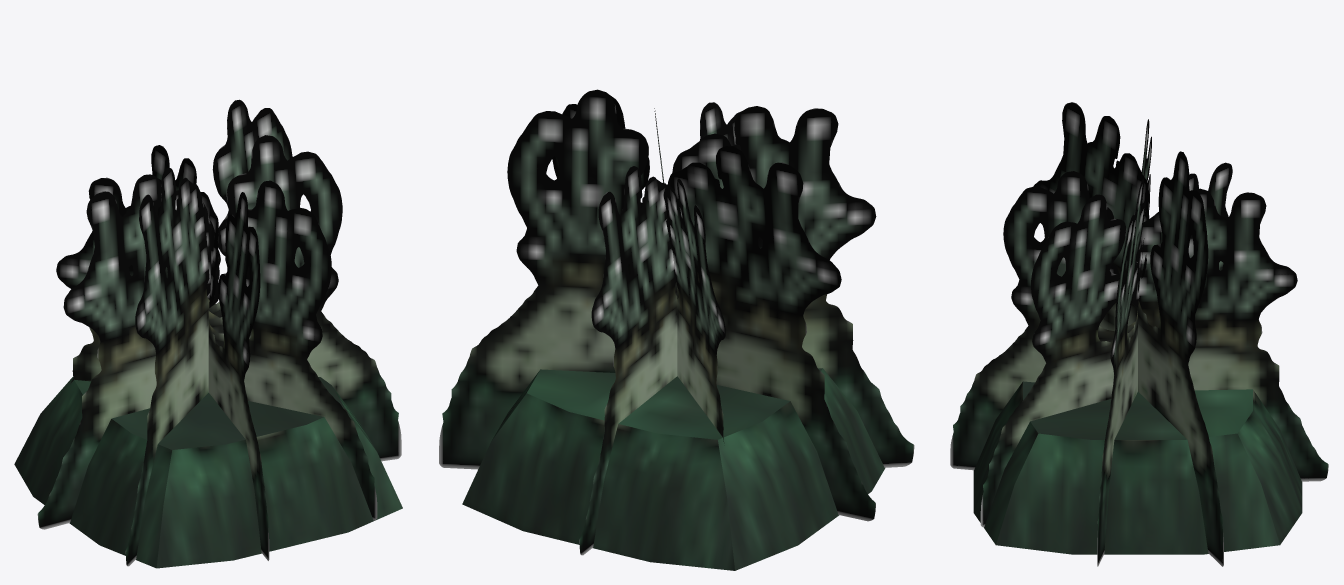
The model's file is StrandWart.fbx.
3 renders of one model, left to right at view 1: azimuth 30°, elevation 25°; view 2: azimuth 150°, elevation 25°; view 3: azimuth 270°, elevation 25°, orthographic. The views are drawn at different scales.
Visible parts, largest first — view 1: StrandWart; view 2: StrandWart; view 3: StrandWart.
Boxes of the visible parts, x1,y1,x2,y2 form: StrandWart: [14, 99, 402, 568]; StrandWart: [439, 89, 914, 570]; StrandWart: [950, 102, 1328, 566].
Bounding box in the file's own units: 200 × 213 × 189.
Materials: 1 (1 with a texture image).
